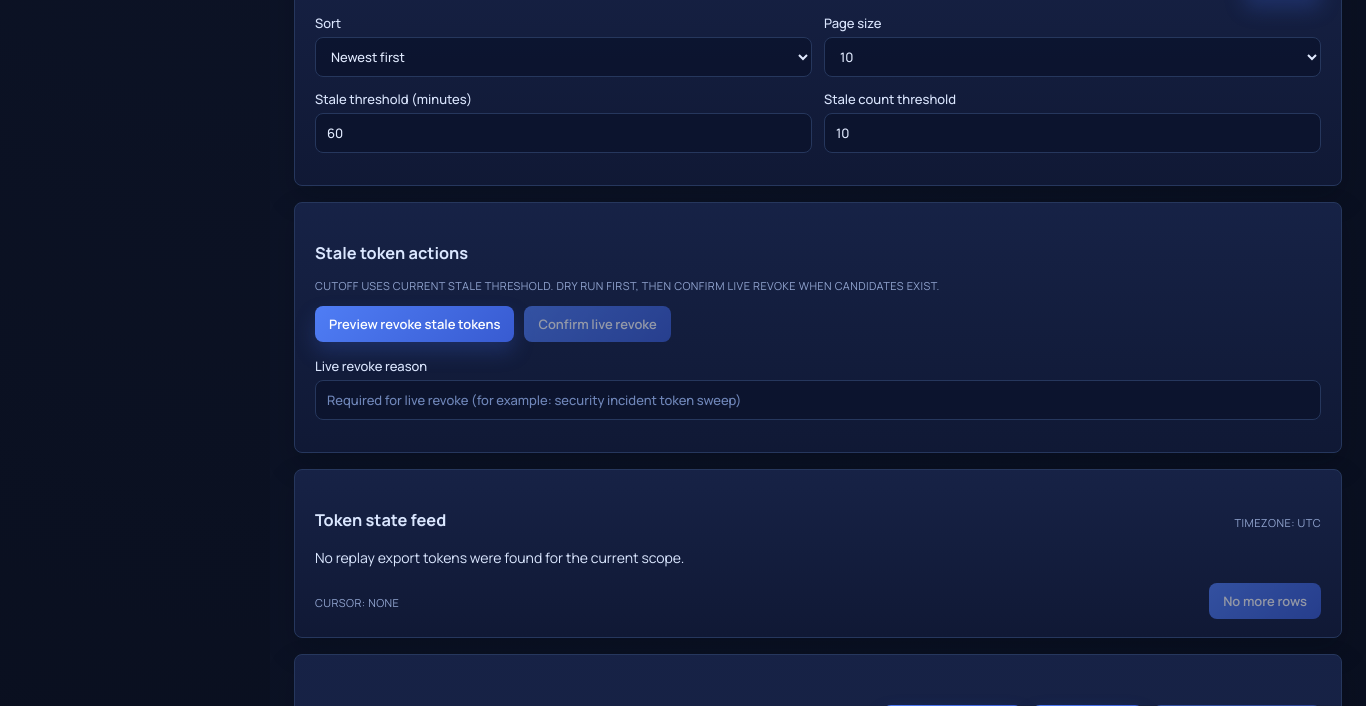
Scenario: Intake replay token observability page › supports stale-token dry run and shows permission message on denied live revoke
(page scrolled)
Click the button "Preview revoke stale tokens".
click(415, 324)  # box [315,306,514,342]
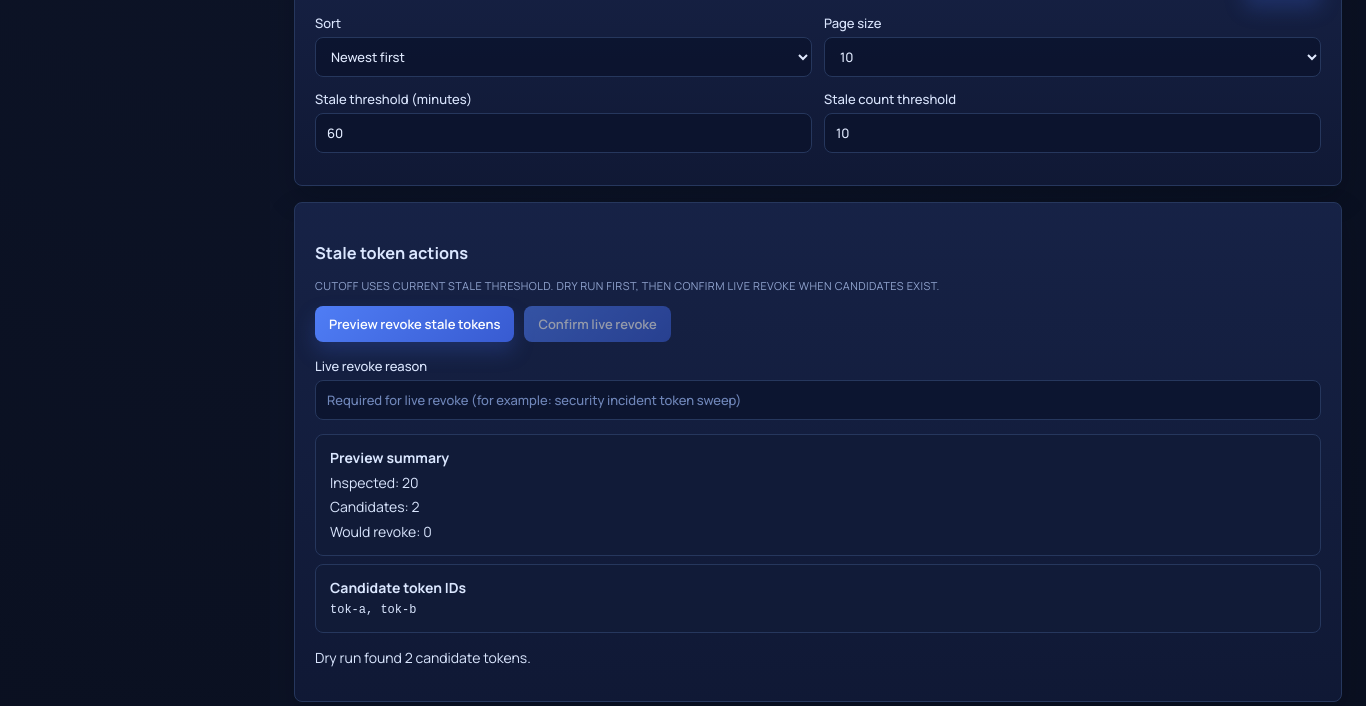
Expected: the text "Dry run found 2 candidate tokens." is shown, [315,648,531,667]
Expected: the text "tok-a, tok-b" is shown, [330,603,416,617]
Replace the text in the field labelled "Live revoke reason" with "Security incident token sweep" at (818, 400), box [315,380,1321,420]
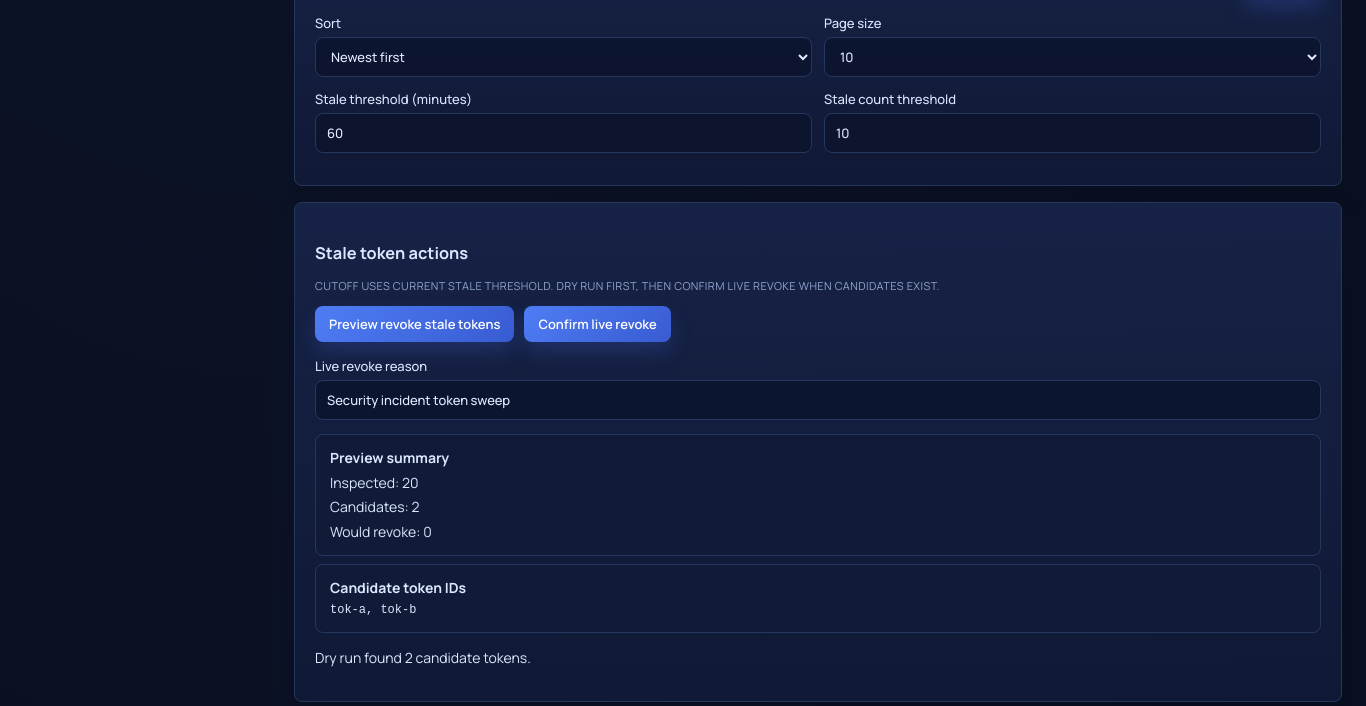
Click the button "Confirm live revoke".
click(598, 324)  # box [524,306,671,342]
(page scrolled)
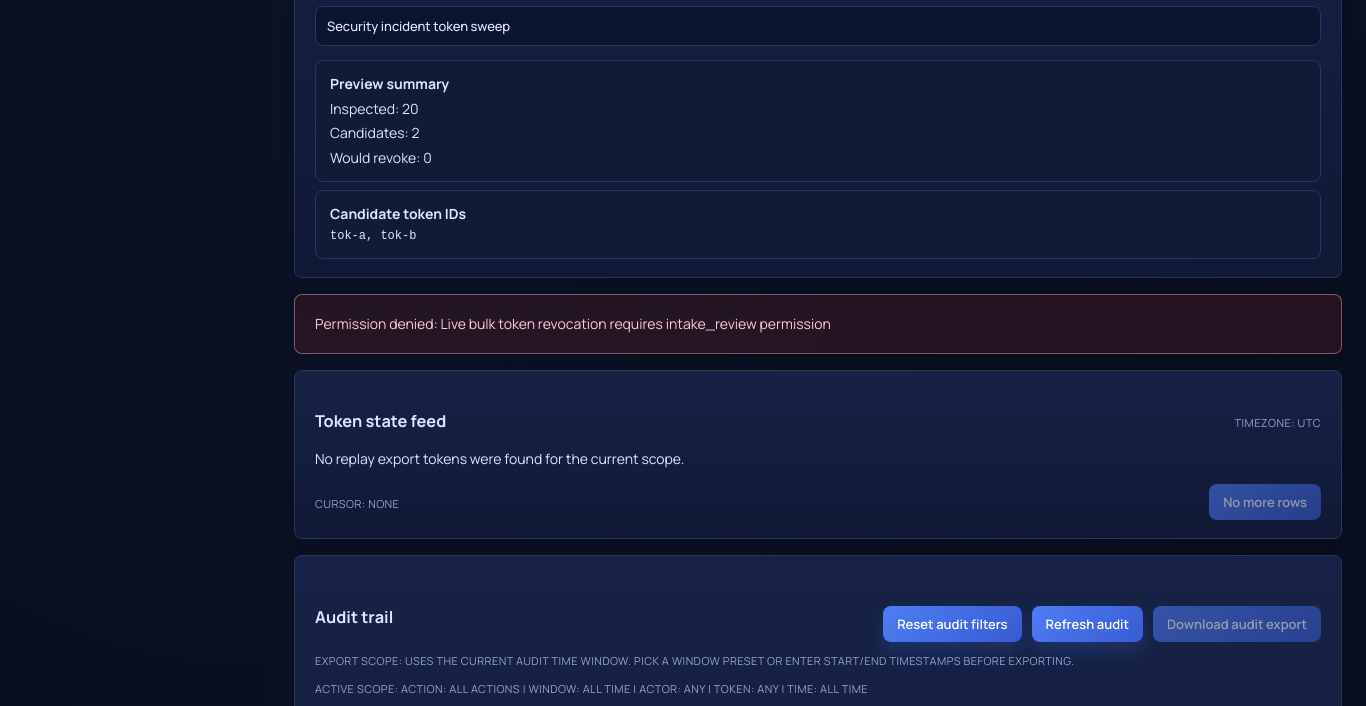
Expected: the text "Permission denied: Live bulk token revocation requires intake_review permission" is shown, [294,294,1342,354]
